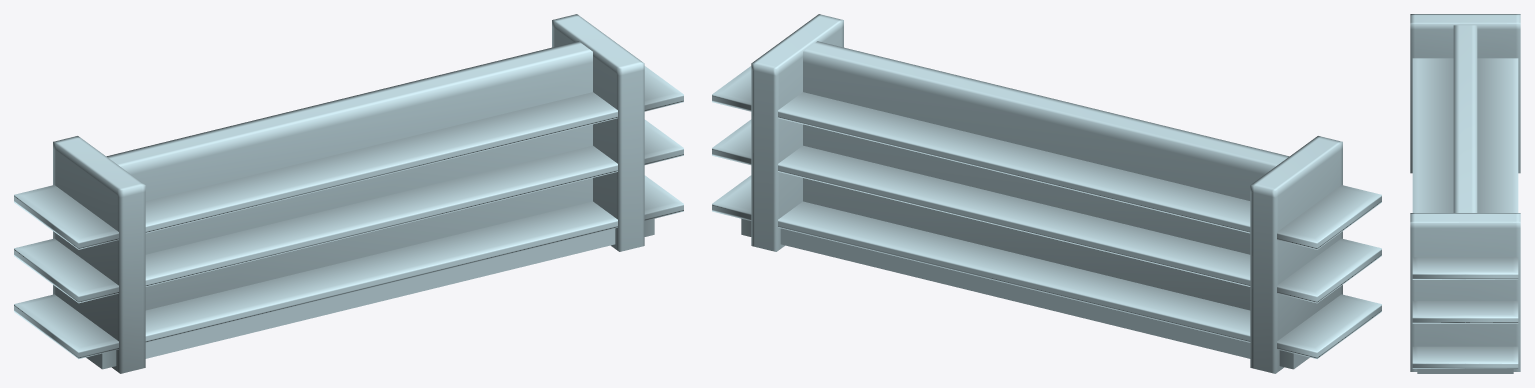
Rendered from Shelf_Double.fbx.
The picture shows the model from 3 angles, left to right: view 1: azimuth 30°, elevation 25°; view 2: azimuth 150°, elevation 25°; view 3: azimuth 270°, elevation 25°; orthographic projection. The views are drawn at different scales.
Visible parts, largest first — view 1: Shelf_Double; view 2: Shelf_Double; view 3: Shelf_Double.
Boxes of the visible parts, x1,y1,x2,y2 form: Shelf_Double: (14, 14, 683, 373); Shelf_Double: (712, 14, 1381, 373); Shelf_Double: (1410, 14, 1520, 373).
Bounding box in the file's own units: 19.96 × 5.76 × 3.85.
